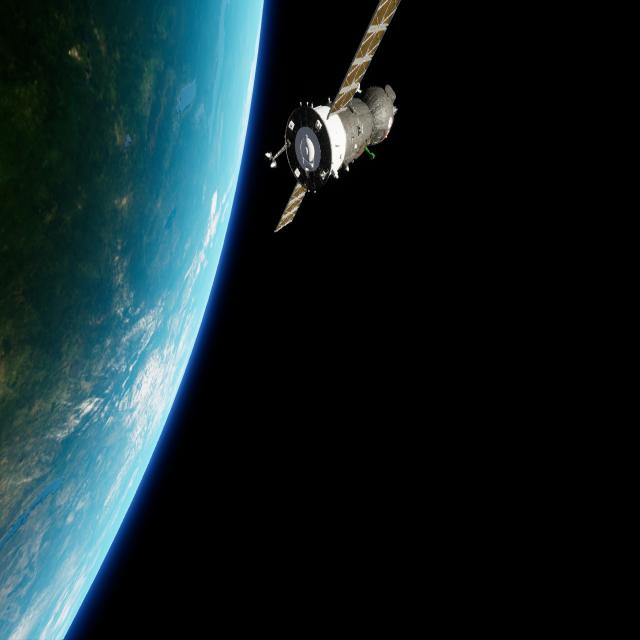Satellites revolving around earth: (1, 1, 266, 638), (264, 1, 402, 234)
